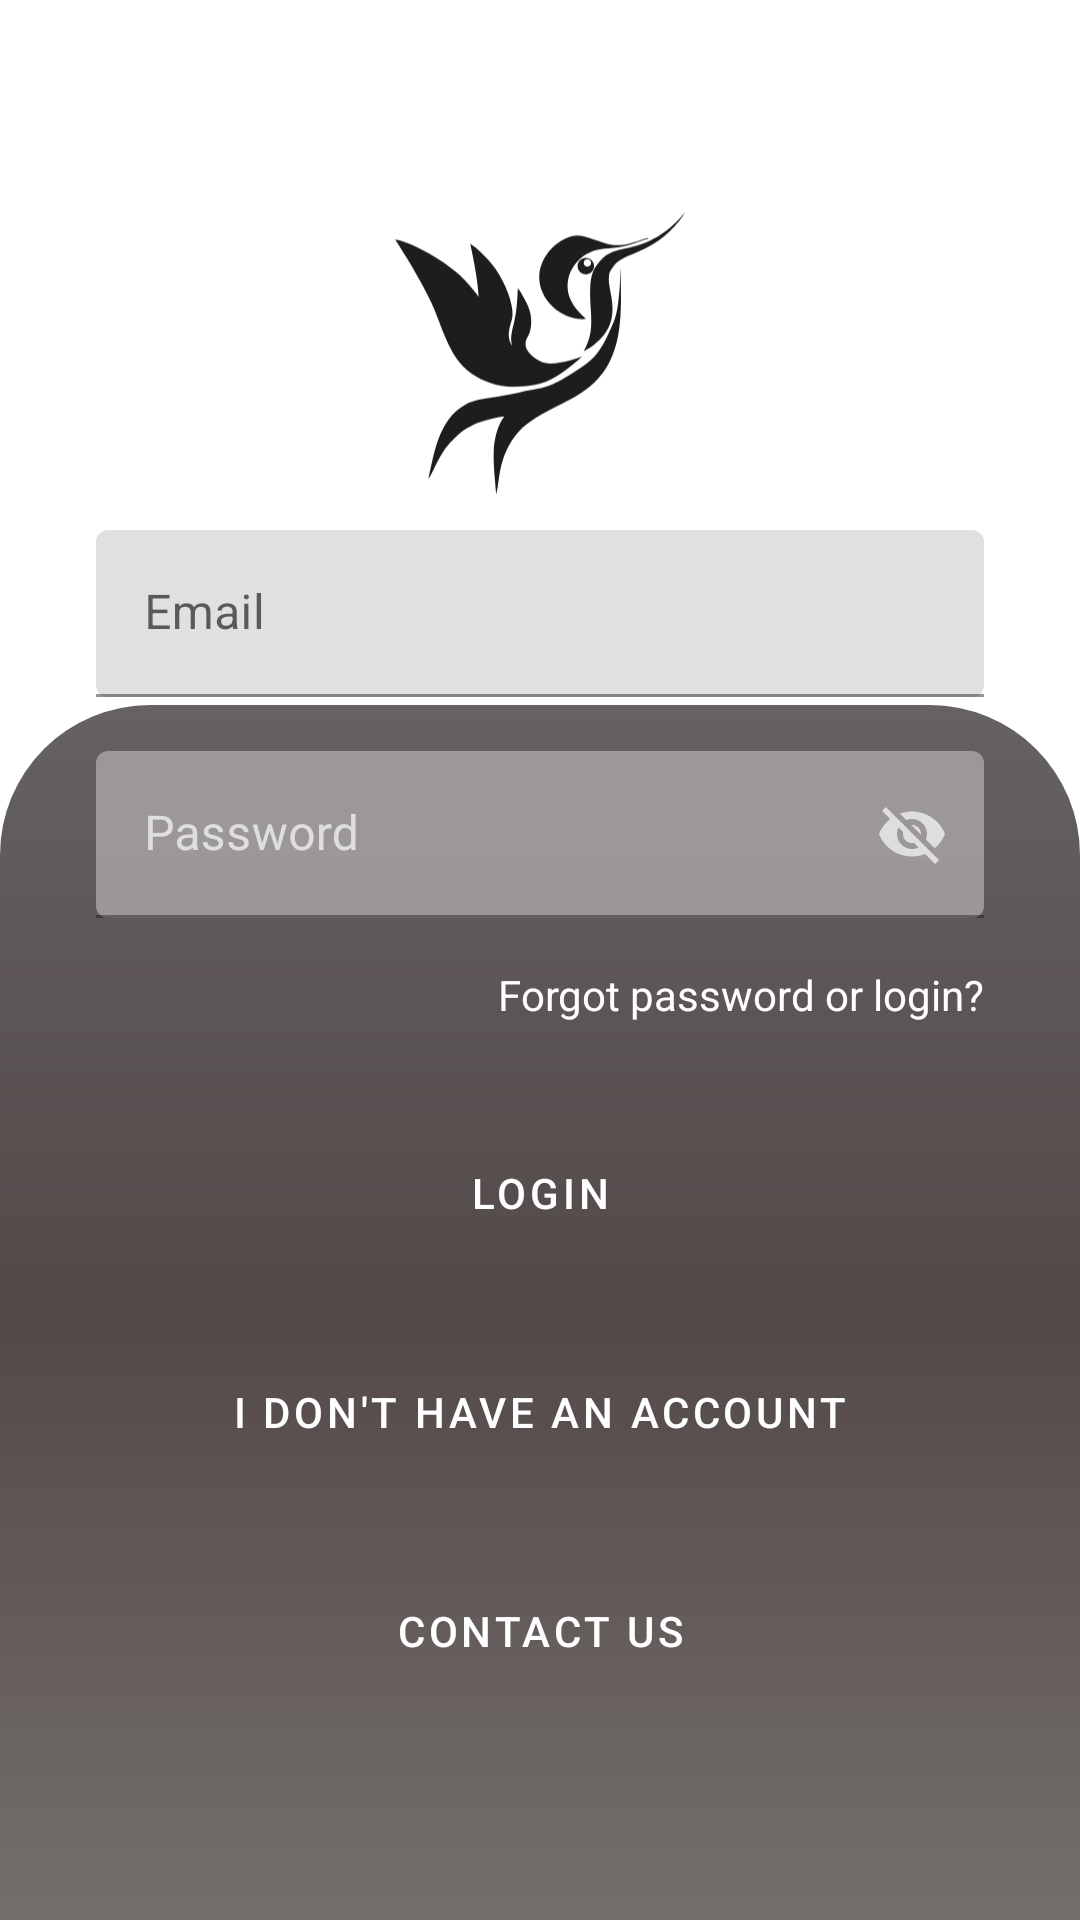

Icons on this 1080px x 1920px Android screen, each with its box as (x1, y1, x2, y2):
pajaro: (395, 212, 685, 494)
